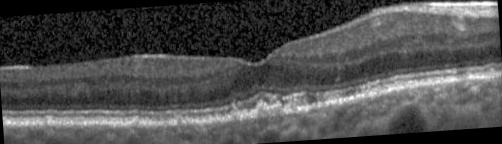retinal_drusen: (258, 106, 270, 119), (271, 105, 284, 117), (230, 113, 242, 124), (130, 119, 141, 128)
